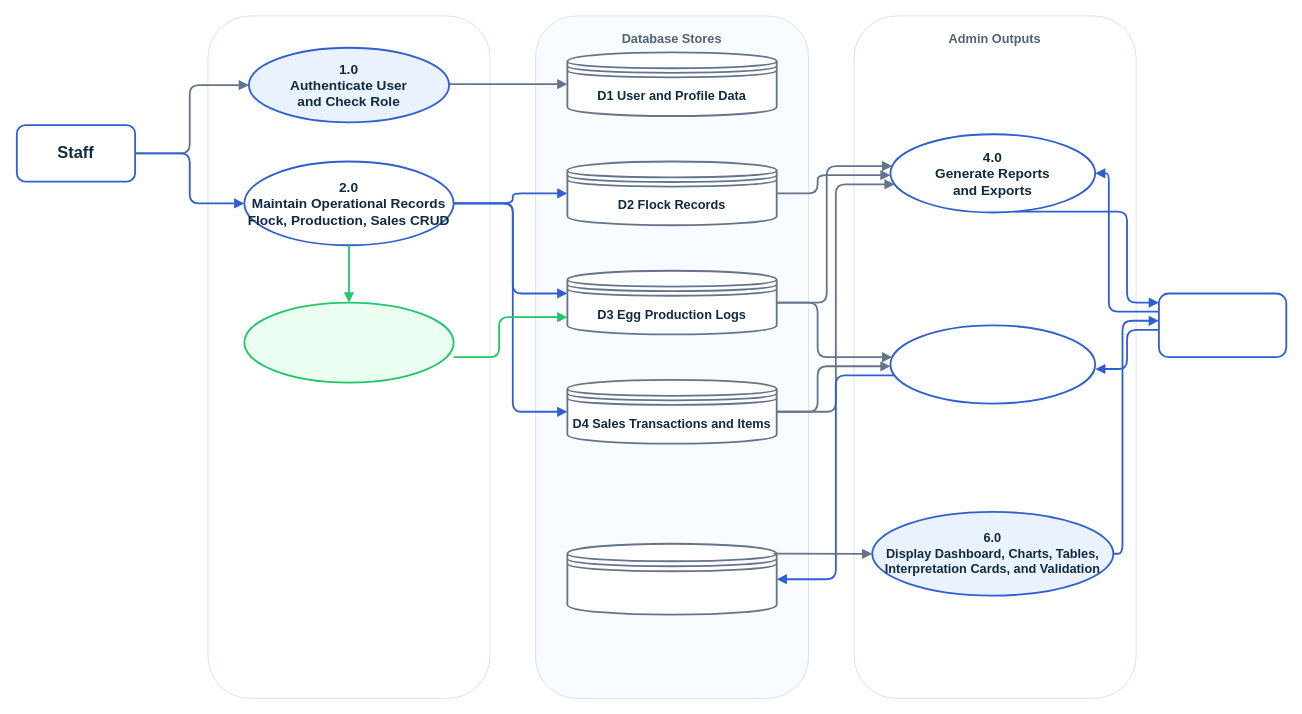
Some shapes in this 1302 by 714 pixel diagram are drawn without their labels. The shapes that lost their labels are listed below. From the top down, each one's box as (x1, y1, x2, y2) in pixels, then its label:
(243, 301, 454, 383): 3.0 Calculate Production Metrics Live hens, HEN-day, FCR
(1158, 292, 1287, 358): Administrator
(207, 15, 490, 698): System Processes
(889, 324, 1096, 404): 5.0 Run Egg and Sales Forecasting
(566, 542, 777, 615): D5 Model Versions and Forecast Outputs
